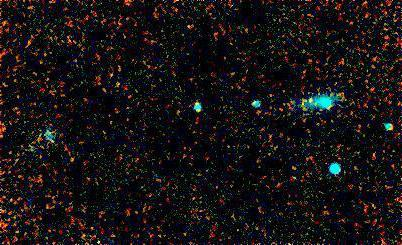star: (293, 86, 323, 116)
